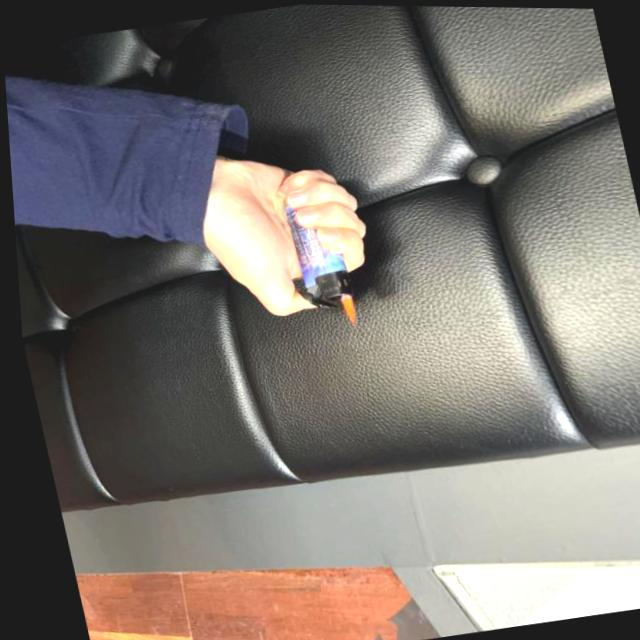helmet: (334, 291, 353, 326)
